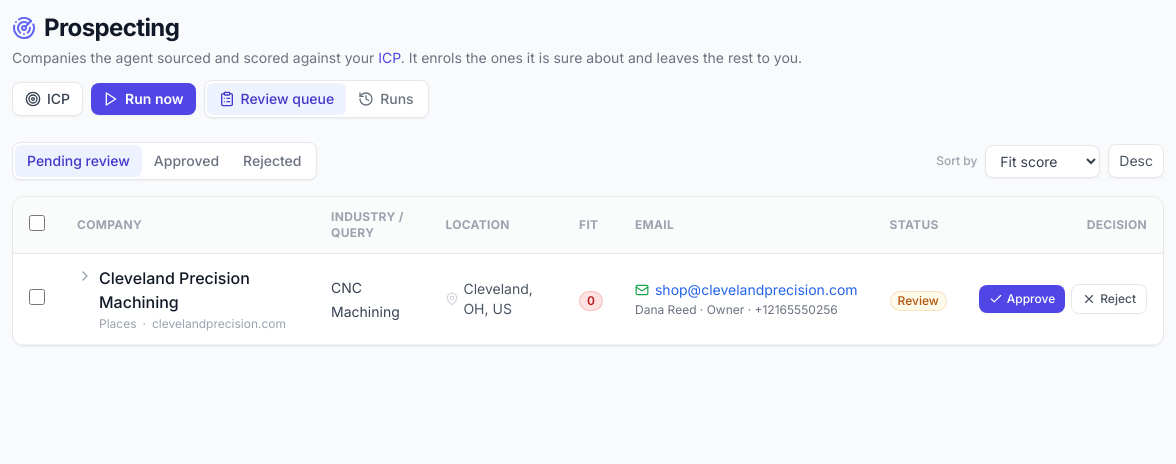
Test: Prospecting page › surfaces an ICP exclusion as the reason a score is zero
Click the button named "show why Cleveland Precision Machining scored 0" at (85, 276), box [77,268,93,284]
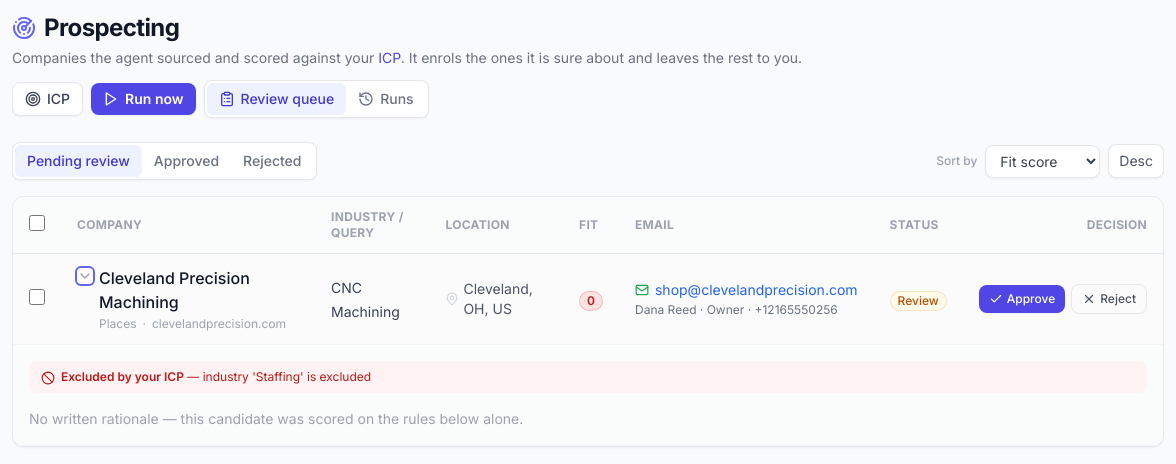
Now the text "Excluded by your ICP" is shown, box [61,369,184,384]
Now the text "Excluded by your ICP — industry 'Staffing' is excluded" is shown, box [61,369,371,385]
